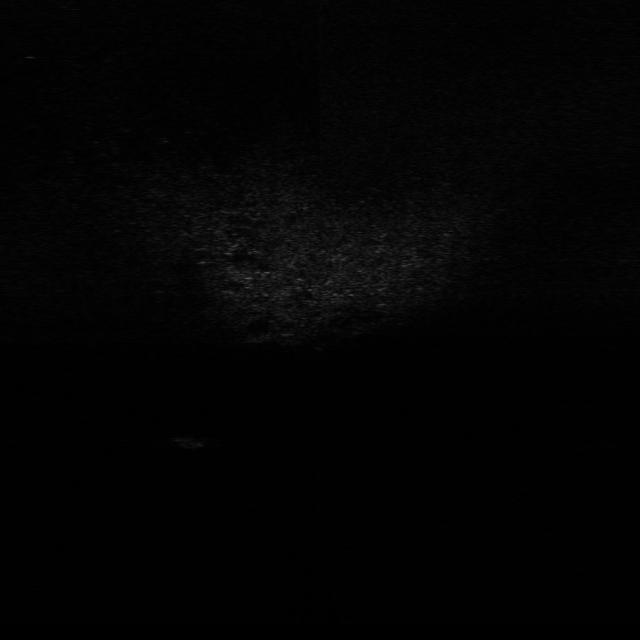cube: (166, 434, 220, 454)
